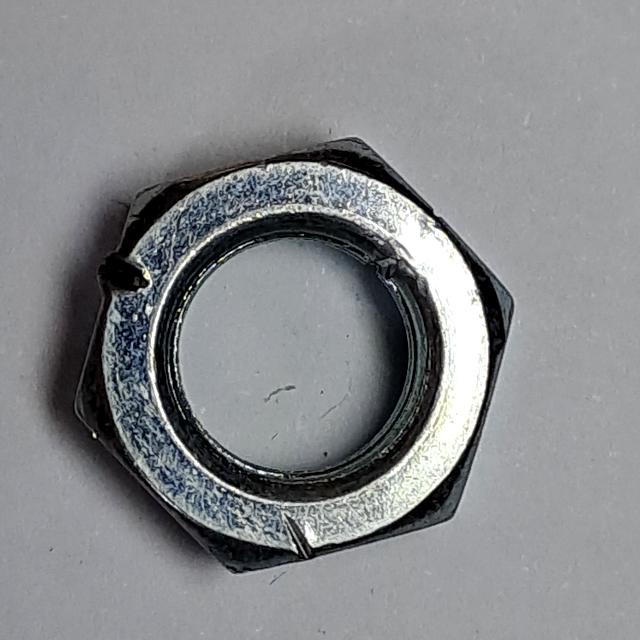Scratches: (66, 122, 524, 594)
